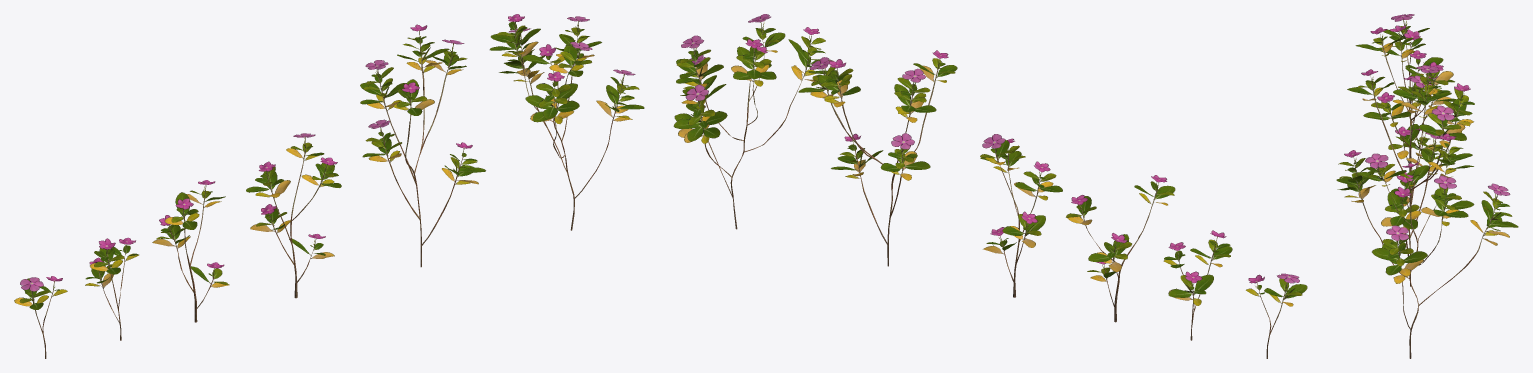
File: periwinkle_plant_1k.glb
3 views of the same model, side by side, from view 1: azimuth 30°, elevation 25°; view 2: azimuth 150°, elevation 25°; view 3: azimuth 270°, elevation 25° (orthographic). The views are drawn at different scales.
Parts seen in each view (by area): view 1: periwinkle_plant_04_LOD0; view 2: periwinkle_plant_04_LOD0; view 3: periwinkle_plant_04_LOD0.
Boxes of the visible parts, x1,y1,x2,y2 form: periwinkle_plant_04_LOD0: (14,14,644,358); periwinkle_plant_04_LOD0: (673,14,1307,358); periwinkle_plant_04_LOD0: (1336,14,1518,358).
Bounding box in the file's own units: 1.24 × 0.4107 × 0.3208.
1 material, 1 textured.
